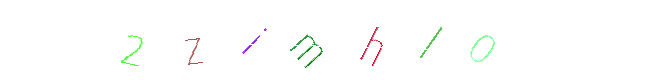0: (335, 0, 415, 80)
2: (212, 0, 292, 80)
H: (282, 0, 362, 80)
I: (248, 0, 328, 80)
L: (332, 0, 412, 80)
M: (266, 0, 346, 80)
Z: (232, 0, 312, 80)
